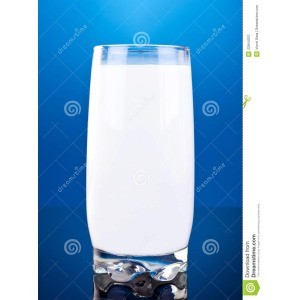milk_brain food: (89, 61, 198, 259)
